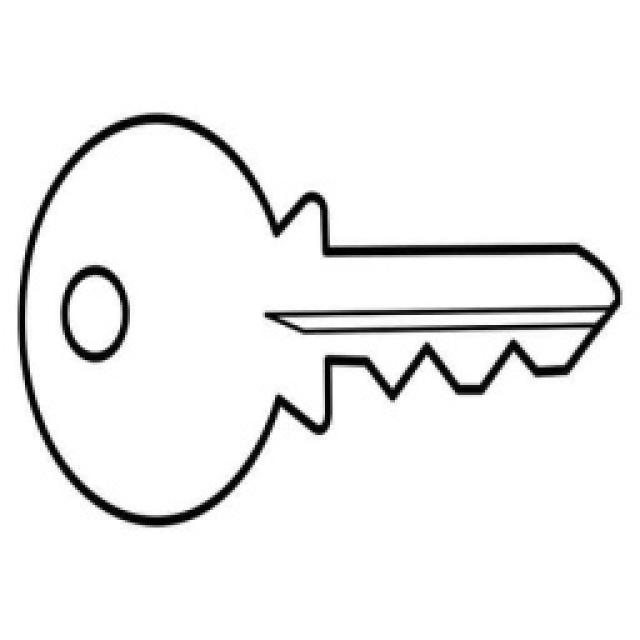anahtar: (12, 104, 631, 534)
